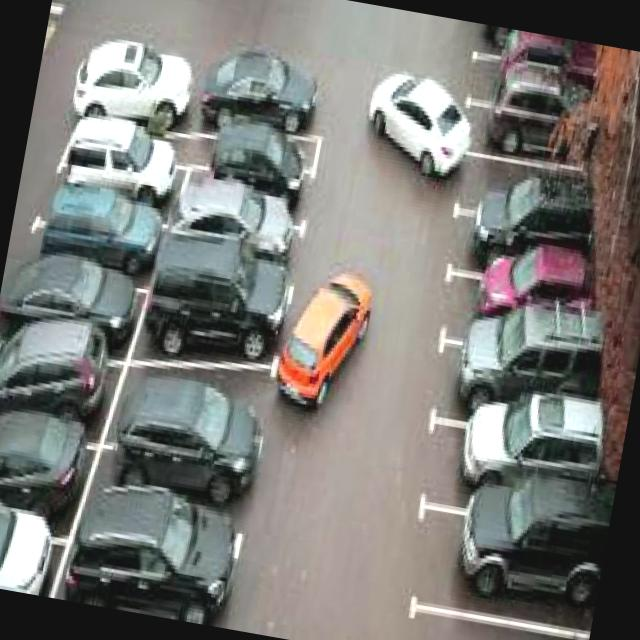car: (412, 497, 608, 640), (67, 492, 245, 626), (416, 403, 600, 521), (426, 328, 598, 430), (97, 414, 260, 520), (146, 255, 293, 368), (0, 258, 144, 364), (20, 194, 160, 290), (444, 199, 594, 287), (438, 264, 593, 349), (0, 329, 119, 439), (0, 411, 93, 536), (69, 40, 189, 134), (52, 134, 183, 220), (165, 198, 304, 276), (186, 144, 316, 226), (196, 61, 329, 141), (462, 95, 596, 168), (466, 42, 594, 116), (0, 499, 63, 595), (472, 23, 594, 69)
free: (116, 337, 277, 441), (452, 146, 593, 218), (401, 599, 590, 640)
